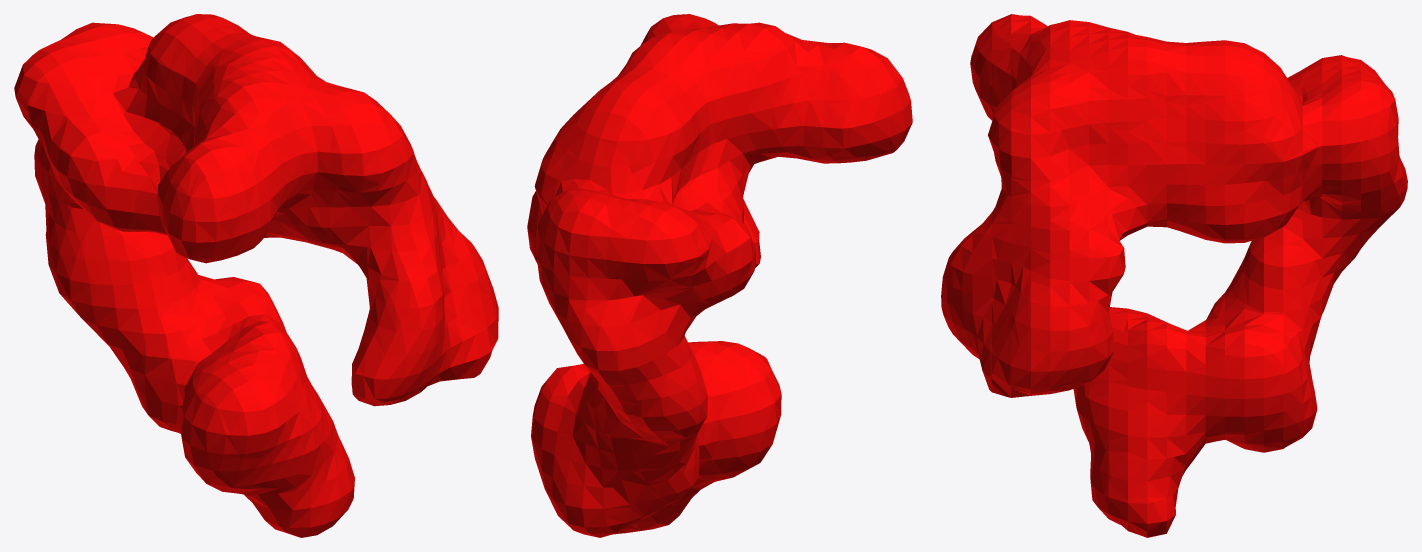
File: fliN_coarse.dae
The picture shows the model from 3 angles, left to right: view 1: azimuth 30°, elevation 25°; view 2: azimuth 150°, elevation 25°; view 3: azimuth 270°, elevation 25°; orthographic projection. The views are drawn at different scales.
Parts seen in each view (by area): view 1: fliN; view 2: fliN; view 3: fliN.
Part boxes in pixels (x1,y1,x2,y2): fliN: (14, 14, 498, 537); fliN: (527, 14, 912, 537); fliN: (941, 14, 1407, 537).
Bounding box in the file's own units: 43.36 × 60.52 × 55.19.
